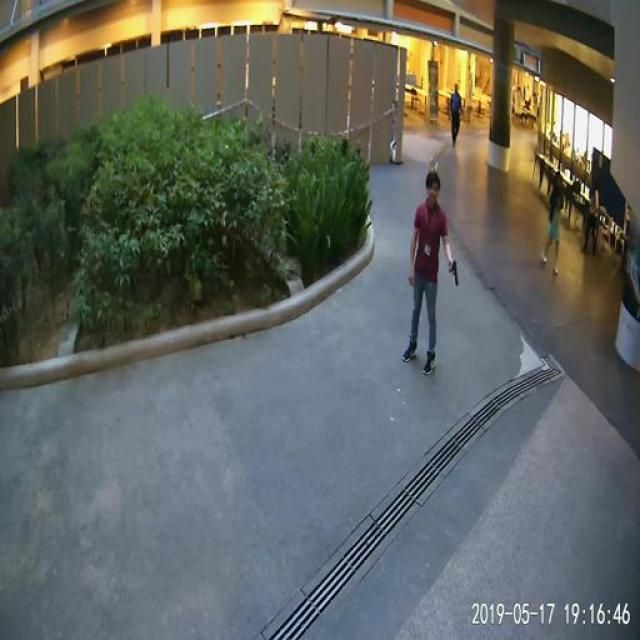Gun: (444, 258, 473, 292)
